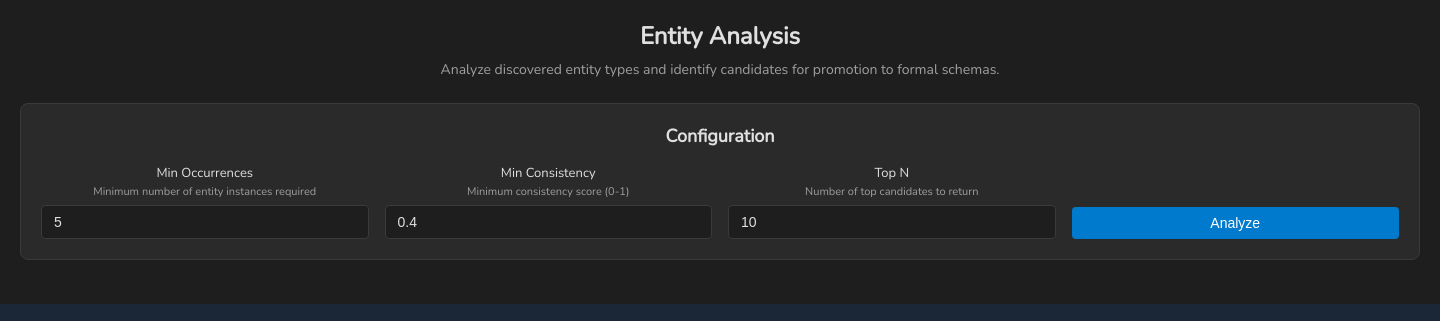
Test: EntityAnalysis Component › 5.3: Parameter Validation › prevents minOccurrences from being set below 1
Click the number field labelled "Min Occurrences Minimum number of entity instances required" at {"x": 205, "y": 222}, box [41,205,368,239]
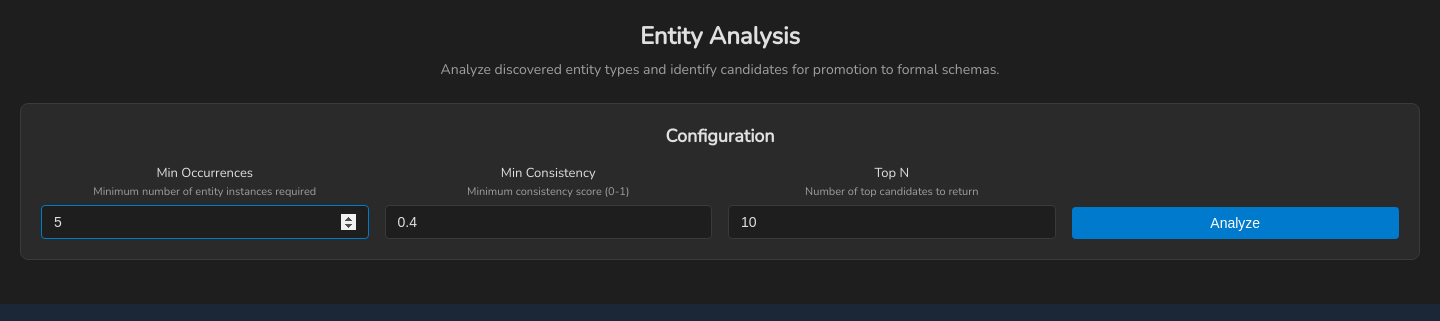
Type keys "0"
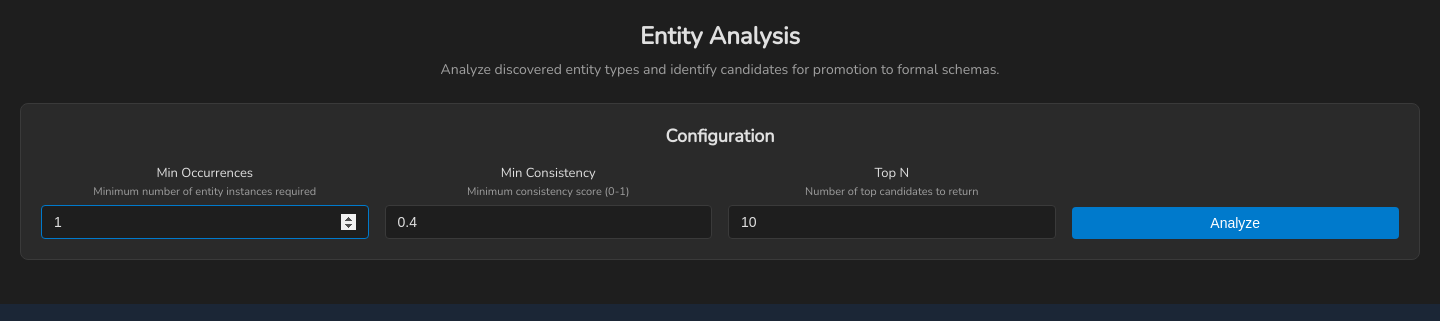
Now the number field labelled "Min Occurrences Minimum number of entity instances required" holds "1", box [41,205,368,239]
